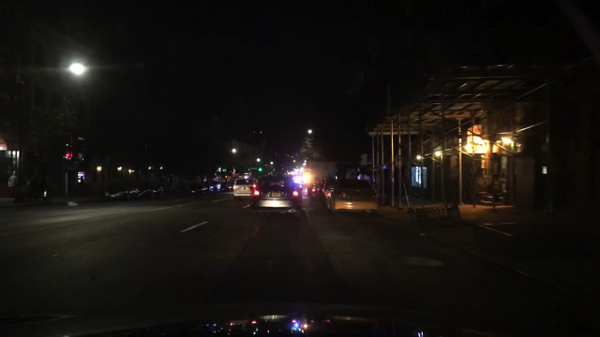car: (250, 174, 302, 219), (324, 178, 379, 218), (16, 177, 52, 205), (105, 181, 139, 201), (230, 177, 257, 202), (310, 178, 333, 204), (139, 181, 165, 200), (187, 182, 207, 198), (207, 180, 221, 194), (221, 174, 231, 192), (307, 181, 313, 199)
person: (8, 169, 17, 196), (79, 175, 86, 187)
traffic light: (64, 142, 73, 162), (220, 166, 227, 174), (257, 167, 263, 173)
truck: (305, 160, 334, 186)
